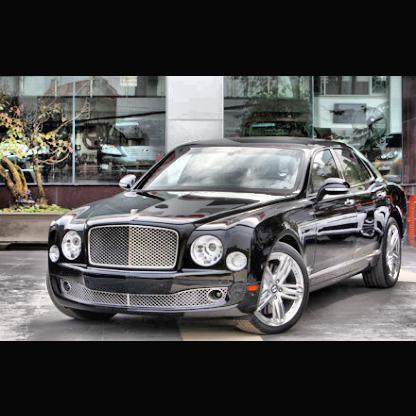Bentley Mulsanne Sedan 2011: (49, 138, 404, 332)
